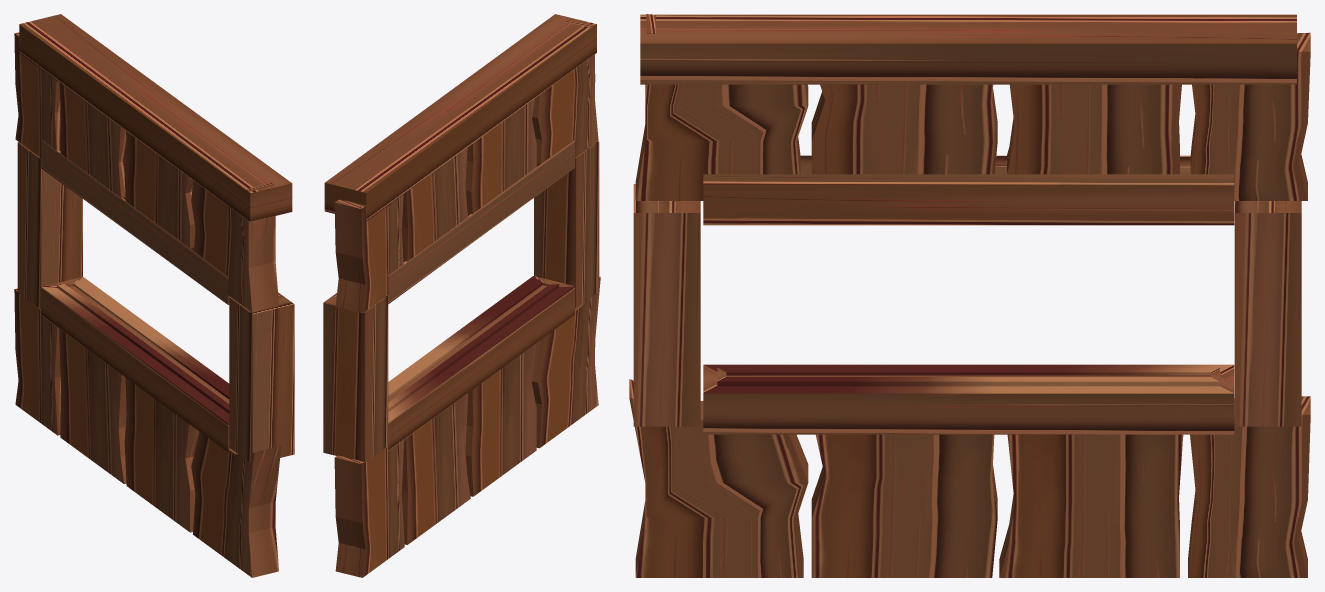
File: MSH_Piso1_Ventana02.FBX
3 renders of one model, left to right at view 1: azimuth 30°, elevation 25°; view 2: azimuth 150°, elevation 25°; view 3: azimuth 270°, elevation 25°, orthographic. The views are drawn at different scales.
Visible parts, largest first — view 1: MSH_Piso1_Ventana02; view 2: MSH_Piso1_Ventana02; view 3: MSH_Piso1_Ventana02.
Boxes of the visible parts, <box> form: MSH_Piso1_Ventana02: <box>14,14,294,577</box>; MSH_Piso1_Ventana02: <box>323,14,600,577</box>; MSH_Piso1_Ventana02: <box>629,14,1310,577</box>.
Bounding box in the file's own units: 12.41 × 109 × 123.
Materials: 1 (1 with a texture image).
